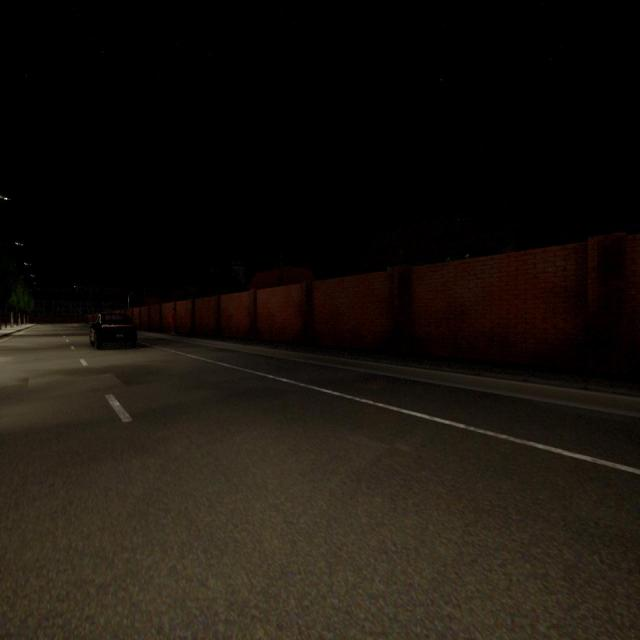Pedestrian: (170, 309, 175, 335)
Vehicle: (90, 312, 136, 349)
